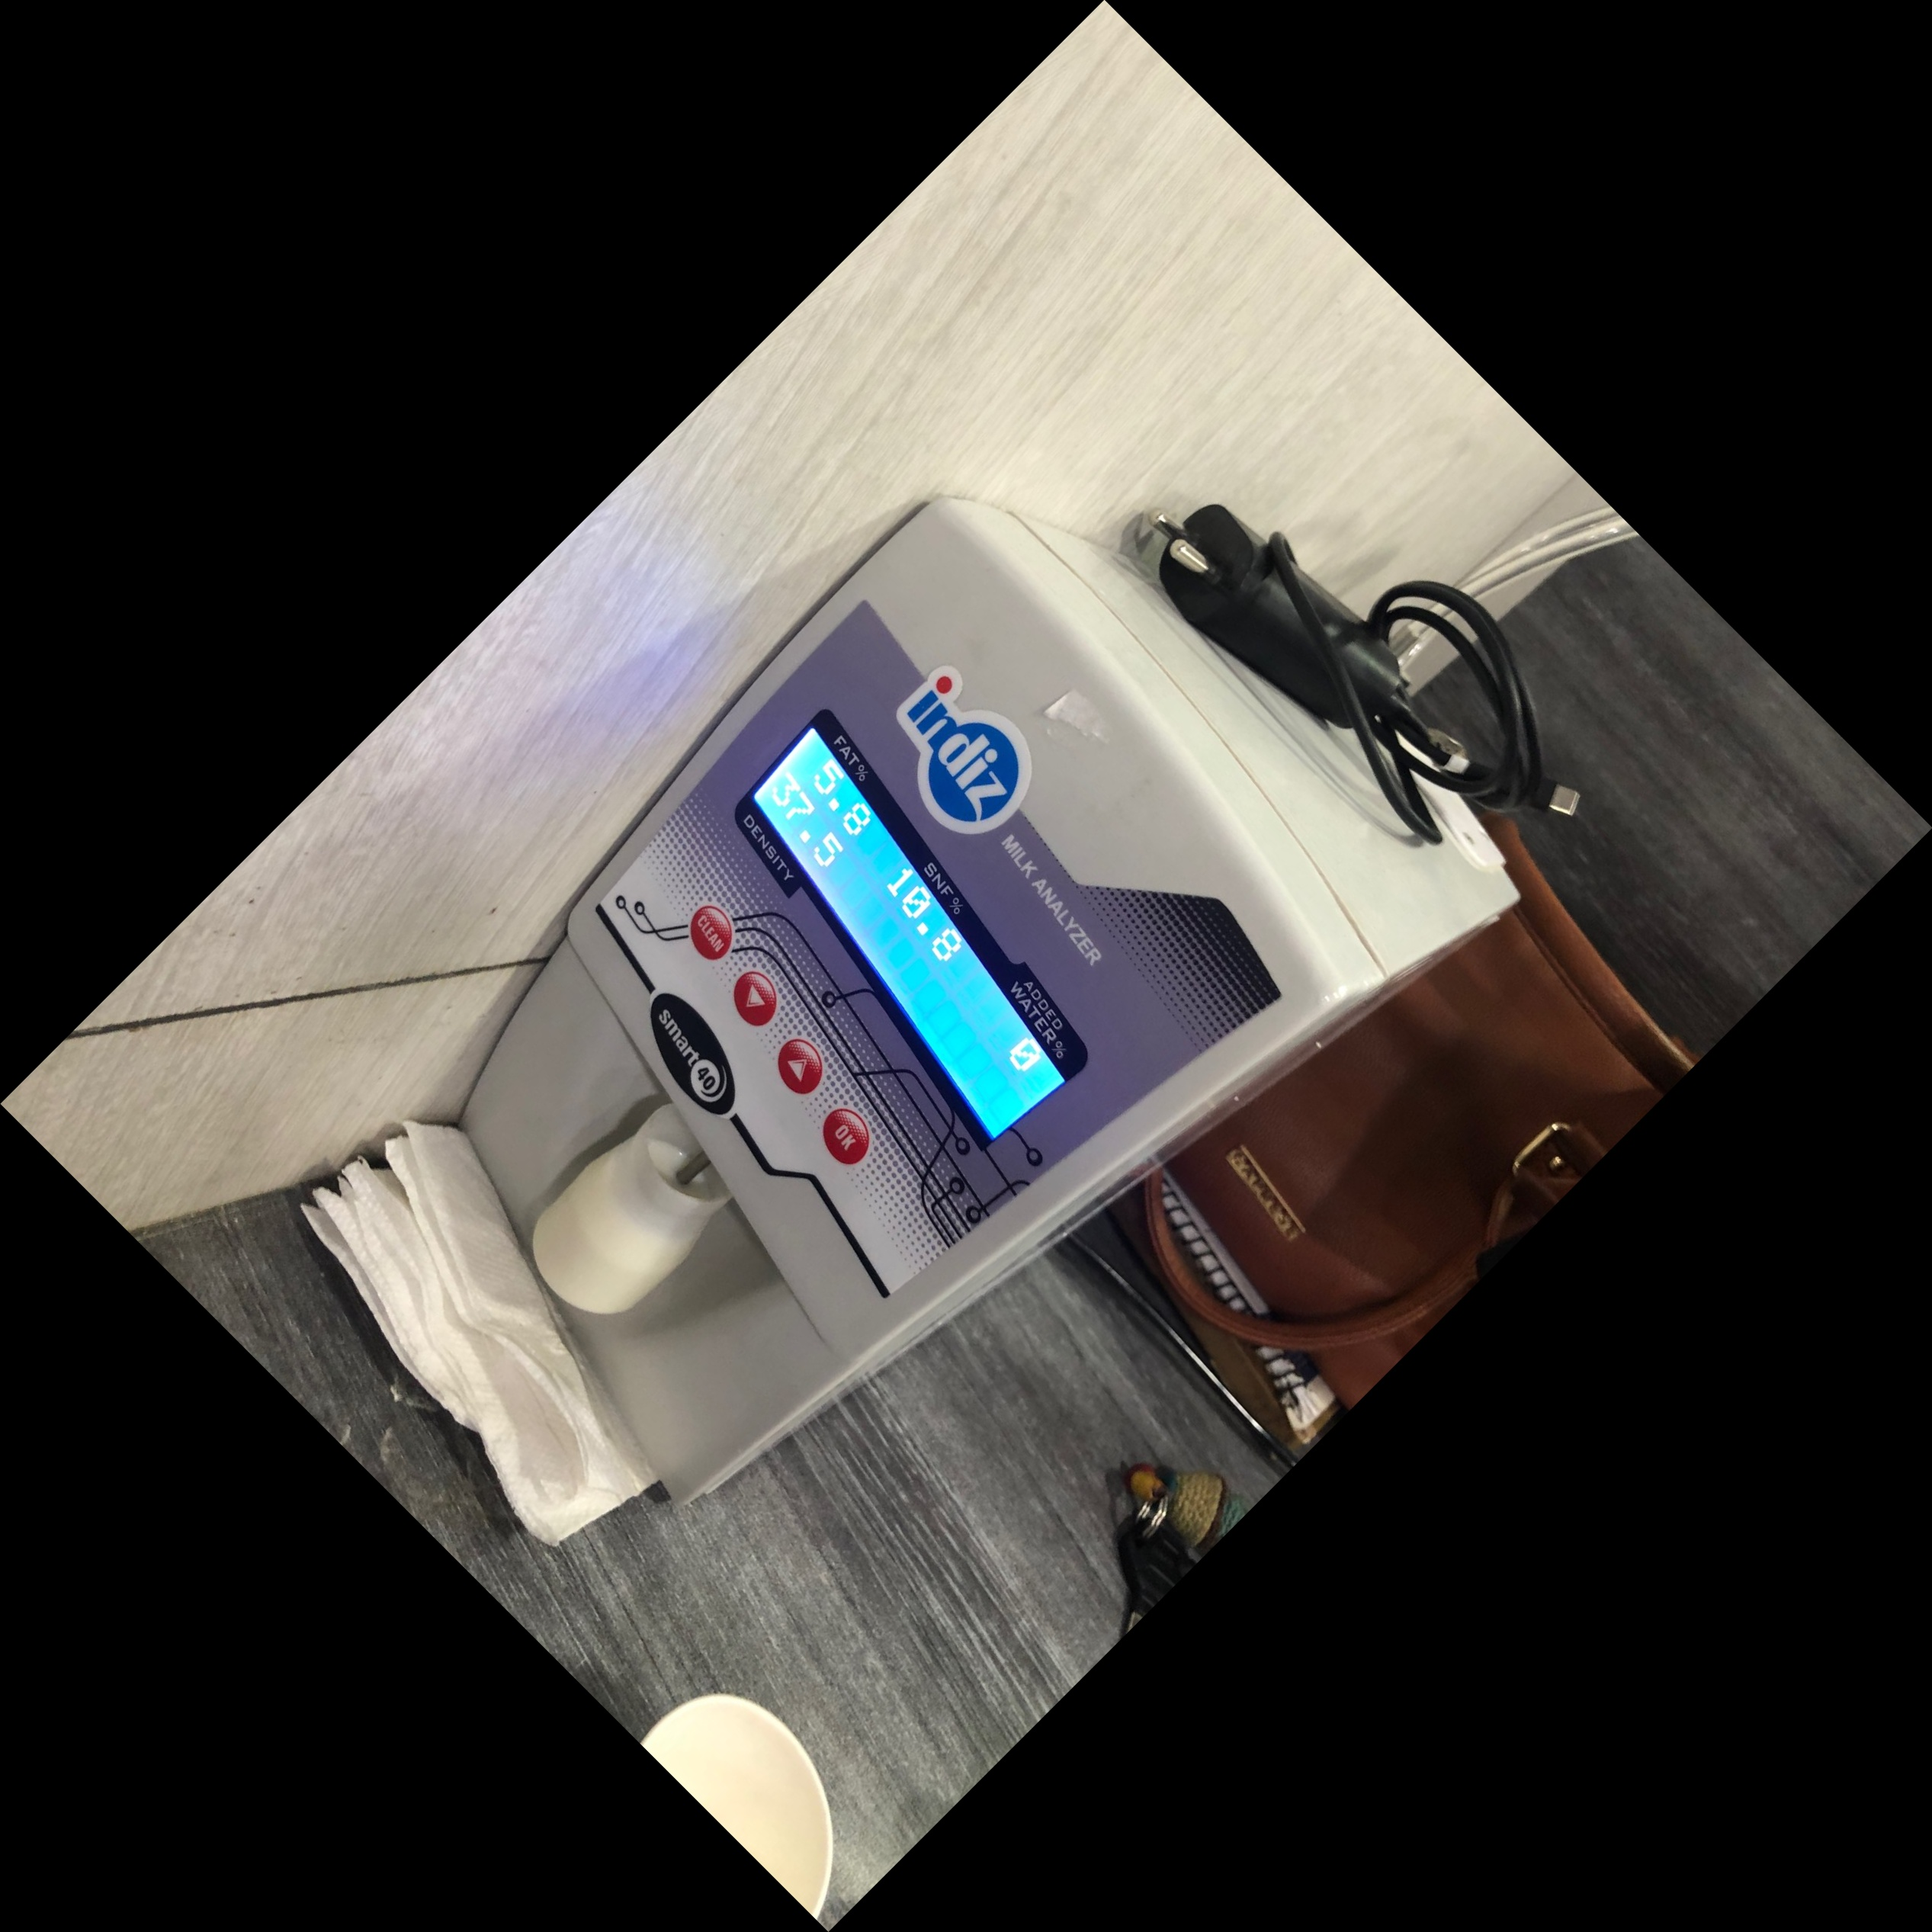lcd: (727, 701, 1115, 1191)
